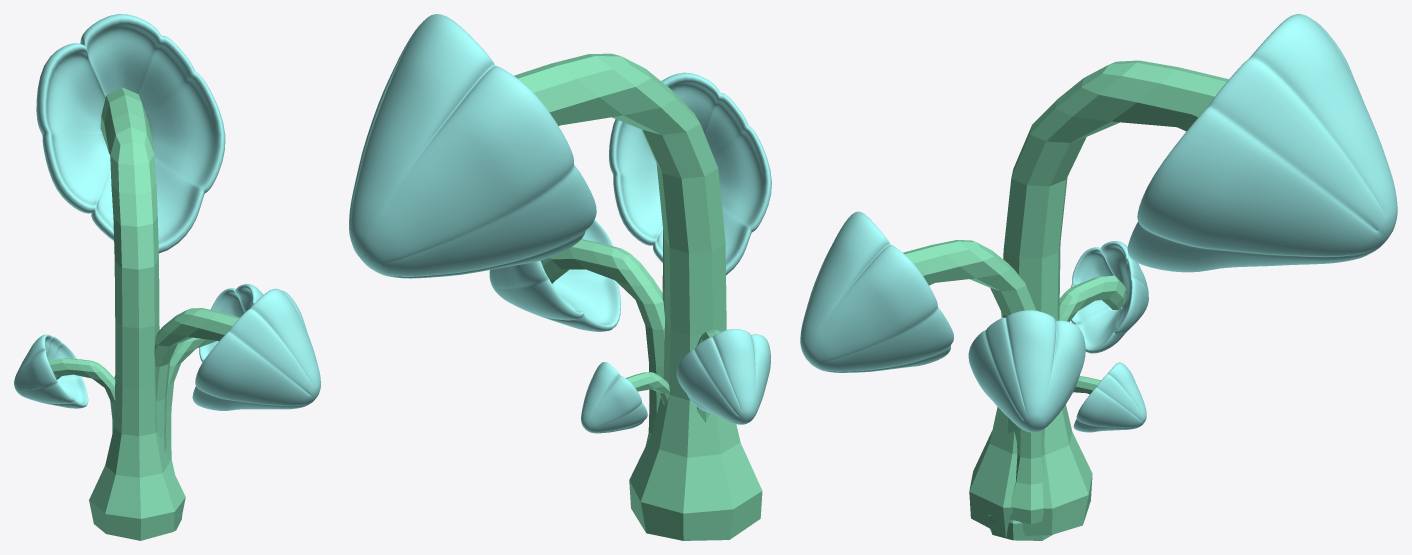
File: mushytreev2.fbx
3 views of the same model, side by side, from view 1: azimuth 30°, elevation 25°; view 2: azimuth 150°, elevation 25°; view 3: azimuth 270°, elevation 25° (orthographic). The views are drawn at different scales.
Visible parts, largest first — view 1: Cube.004; view 2: Cube.004; view 3: Cube.004.
Part boxes in pixels (x1,y1,x2,y2): Cube.004: (14,14,320,540); Cube.004: (349,14,771,540); Cube.004: (800,14,1397,540).
Bounding box in the file's own units: 1438 × 2533 × 2445.
